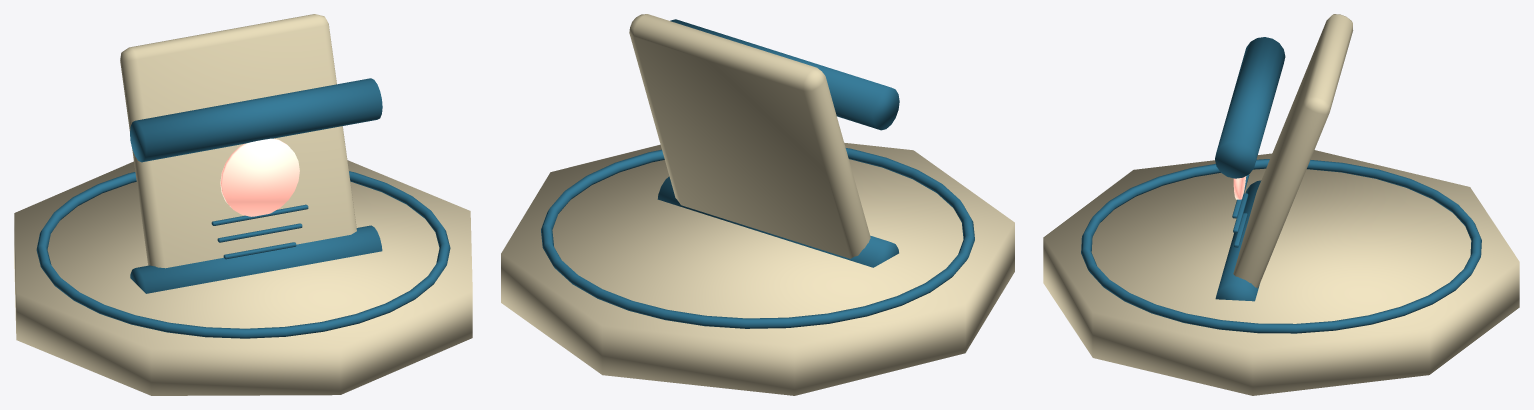
3 views of the same model, side by side, from view 1: azimuth 30°, elevation 25°; view 2: azimuth 150°, elevation 25°; view 3: azimuth 270°, elevation 25° (orthographic). The views are drawn at different scales.
Visible parts, largest first — view 1: Hexagonal plinth, Parchment, Rolled parchment edge.001, Inlaid rim, Rolled parchment edge, 3B embossed seal, Embossed line, Embossed line.001, Embossed line.002; view 2: Hexagonal plinth, Parchment, Inlaid rim, Rolled parchment edge.001, Rolled parchment edge; view 3: Hexagonal plinth, Parchment, Inlaid rim, Rolled parchment edge.001, Rolled parchment edge.
Part boxes in pixels (box(x1,y1,x2,y2)): Hexagonal plinth: box(14, 160, 472, 395); Parchment: box(120, 14, 356, 268); Rolled parchment edge.001: box(130, 78, 382, 162); Inlaid rim: box(36, 171, 450, 338); Rolled parchment edge: box(130, 225, 382, 293); 3B embossed seal: box(220, 138, 299, 216); Embossed line: box(211, 204, 308, 225); Embossed line.001: box(217, 223, 302, 242); Embossed line.002: box(223, 242, 296, 259); Hexagonal plinth: box(501, 142, 1014, 395); Parchment: box(629, 14, 870, 258); Inlaid rim: box(541, 148, 974, 328); Rolled parchment edge.001: box(670, 19, 899, 130); Rolled parchment edge: box(657, 176, 898, 267); Hexagonal plinth: box(1043, 150, 1519, 395); Parchment: box(1233, 14, 1353, 288); Inlaid rim: box(1081, 159, 1481, 333); Rolled parchment edge.001: box(1215, 37, 1285, 178); Rolled parchment edge: box(1215, 180, 1261, 301).
Bounding box in the file's own units: 1.51 × 0.8899 × 1.51.
